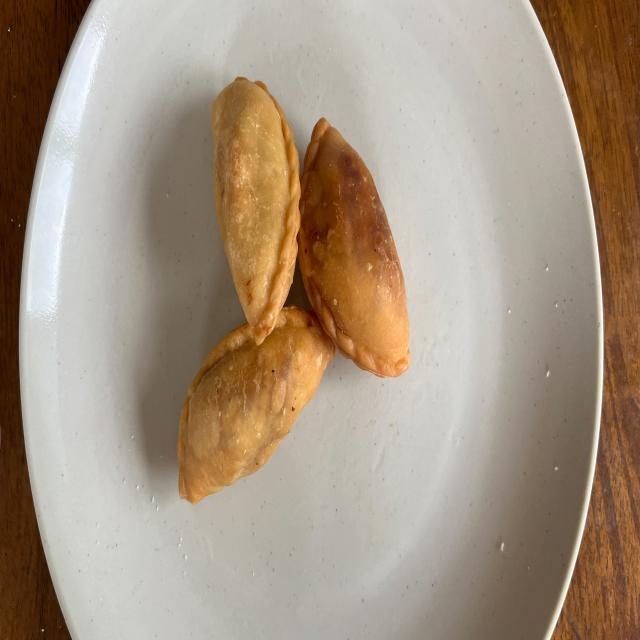karipap: (178, 307, 336, 504), (298, 118, 410, 378), (211, 78, 300, 344)
